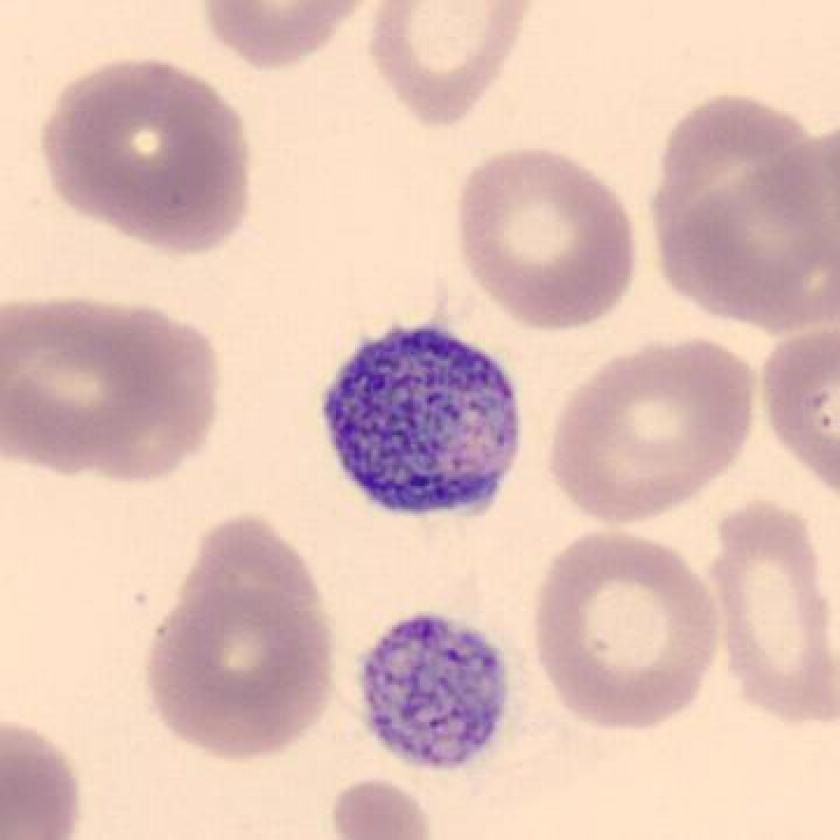platelets: (319, 316, 529, 531), (353, 603, 519, 783)
